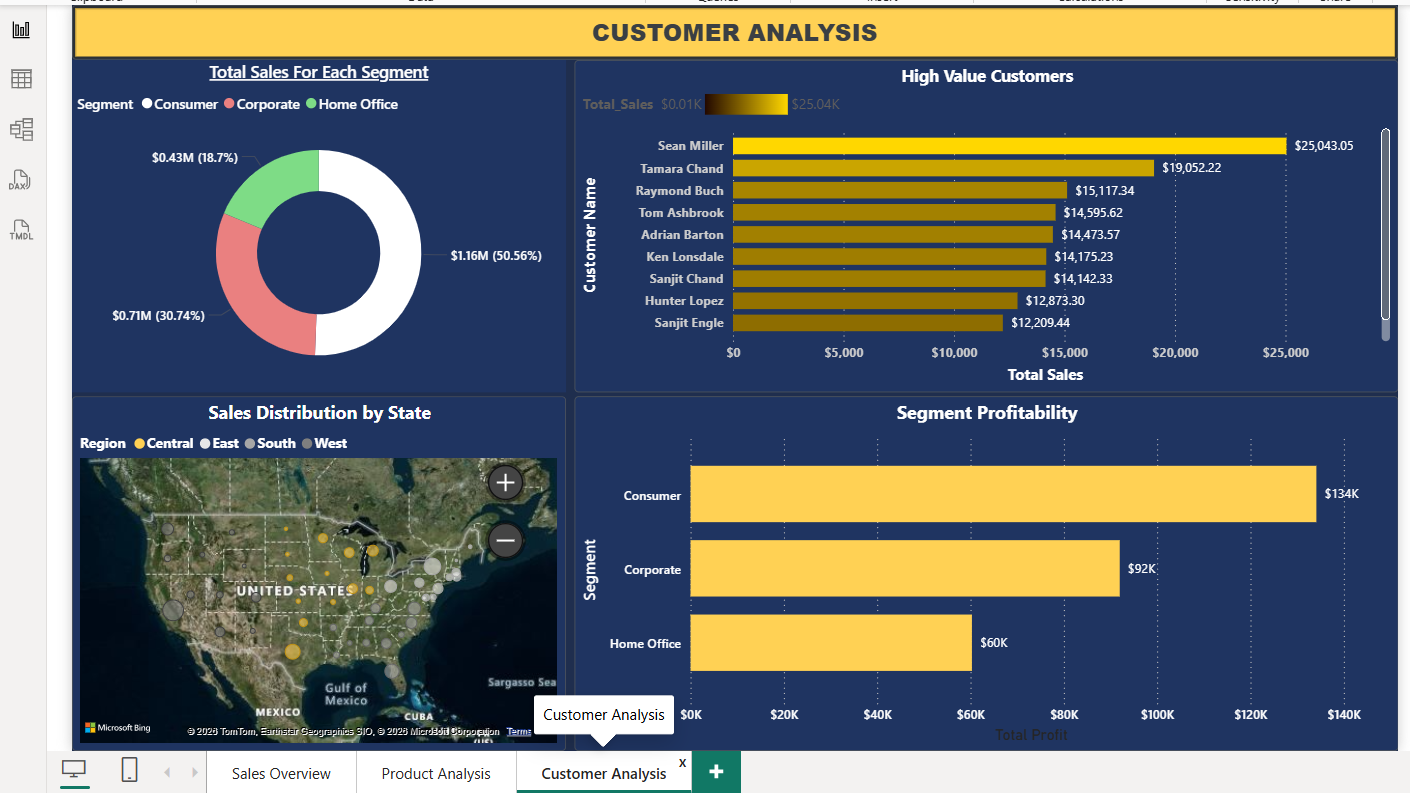

What the dashboard file says about the page in this screenshot:
{"tool":"powerbi","page":{"name":"Customer Analysis","canvas":[1280,720],"ordinal":2},"visuals":[{"type":"shape","box":[0,0,1280,53.1],"z":0},{"type":"donutChart","title":"Total Sales For Each Segment","fields":{"Category":["Sample - Superstore.Segment"],"Y":["_Measures.Total_Sales"]},"box":[0,53.1,476.5,320.9],"z":2000},{"type":"clusteredBarChart","title":"High Value Customers","fields":{"Category":["dim_customer.Customer Name"],"Y":["_Measures.Total_Sales"]},"box":[485,53.1,795,320.9],"z":3000},{"type":"map","title":"Sales Distribution by State","fields":{"Category":["dim_location.State"],"Size":["_Measures.Total_Sales"],"Series":["dim_location.Region"]},"box":[0,377.6,476.5,342.6],"z":5000},{"type":"clusteredBarChart","title":"Segment Profitability","fields":{"Category":["Sample - Superstore.Segment"],"Y":["_Measures.Total Profit"]},"box":[485,377.6,795,342.6],"z":6000}]}

Visuals, with their boxes on the page's 1280x720 design canvas (x1, y1, x2, y2). These are canvas units, not pixel positions in the 1410x793 screenshot, which may show the page scaled, cropped or inside an application window:
shape: Rect(0, 0, 1280, 53)
"Total Sales For Each Segment" donutChart: Rect(0, 53, 476, 374)
"High Value Customers" clusteredBarChart: Rect(485, 53, 1280, 374)
"Sales Distribution by State" map: Rect(0, 378, 476, 720)
"Segment Profitability" clusteredBarChart: Rect(485, 378, 1280, 720)
